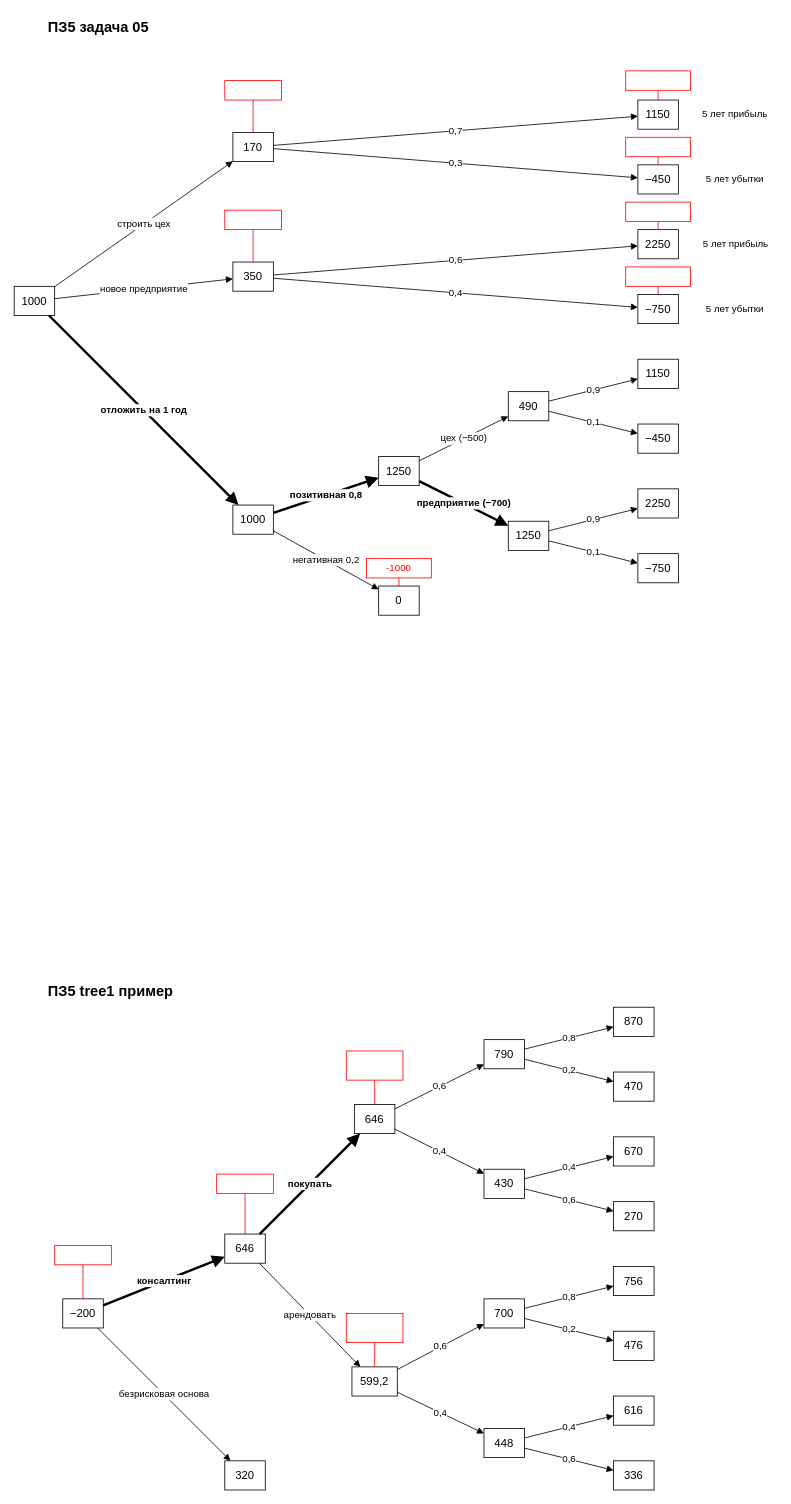
The diagram is 791 pixels wide and 1504 high, and some of its shapes have lost their labels. The shapes that lost their labels are listed below. From the top down, each one's box as (x1, y1, x2, y2) in pixels, then its label:
(224, 80, 281, 100): -500 1 раз
(625, 70, 691, 90): 230млн в год
(625, 136, 691, 157): -90млн в год
(224, 209, 281, 230): -700 1 раз
(625, 201, 691, 222): 450млн в год
(625, 266, 691, 286): -150млн в год
(345, 1050, 403, 1080): -150 1 раз -20 в год
(216, 1173, 273, 1194): 140 в год
(54, 1245, 111, 1265): -200 1 раз
(345, 1313, 403, 1343): -0.3x(П-140) в год
